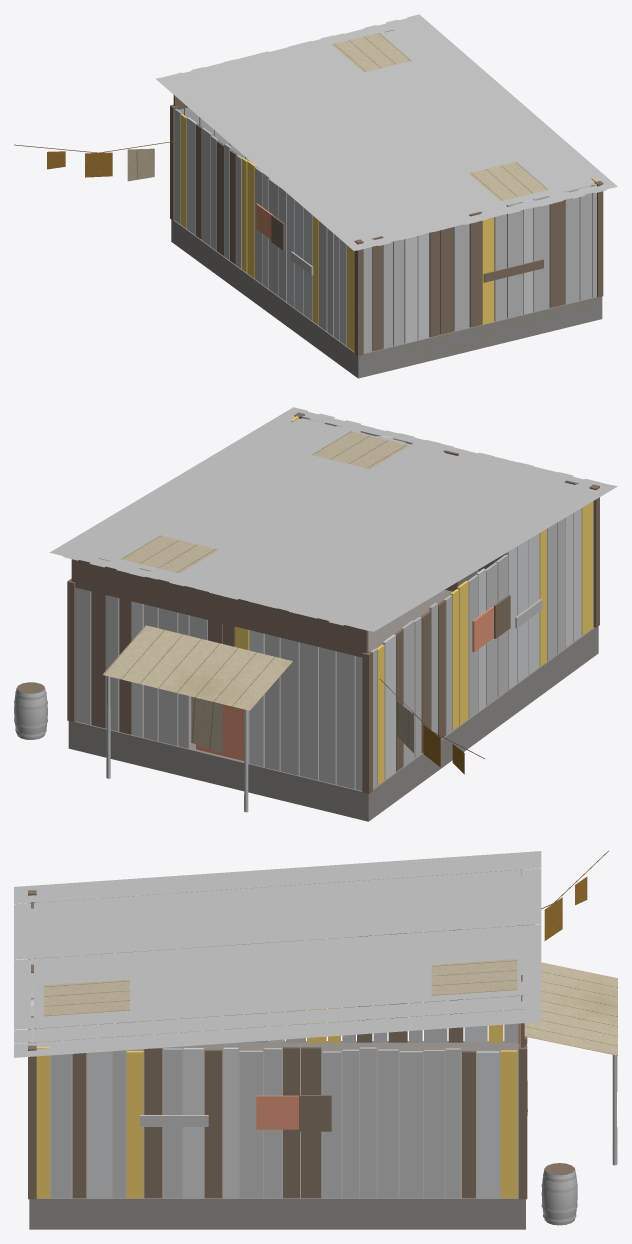
The model's file is SM_Art_Settlement_Shanty_4.gltf.
3 renders of one model, top to bottom at view 1: azimuth 30°, elevation 25°; view 2: azimuth 150°, elevation 25°; view 3: azimuth 270°, elevation 25°, orthographic. The views are drawn at different scales.
Parts seen in each view (by area): view 1: SM_Art_Settlement_Shanty_4; view 2: SM_Art_Settlement_Shanty_4; view 3: SM_Art_Settlement_Shanty_4.
Part boxes in pixels (<box>): SM_Art_Settlement_Shanty_4: <box>14,14,617,378</box>; SM_Art_Settlement_Shanty_4: <box>14,407,617,821</box>; SM_Art_Settlement_Shanty_4: <box>14,850,617,1229</box>.
Size of the model in its own units: 10 by 3.85 by 9.85.
